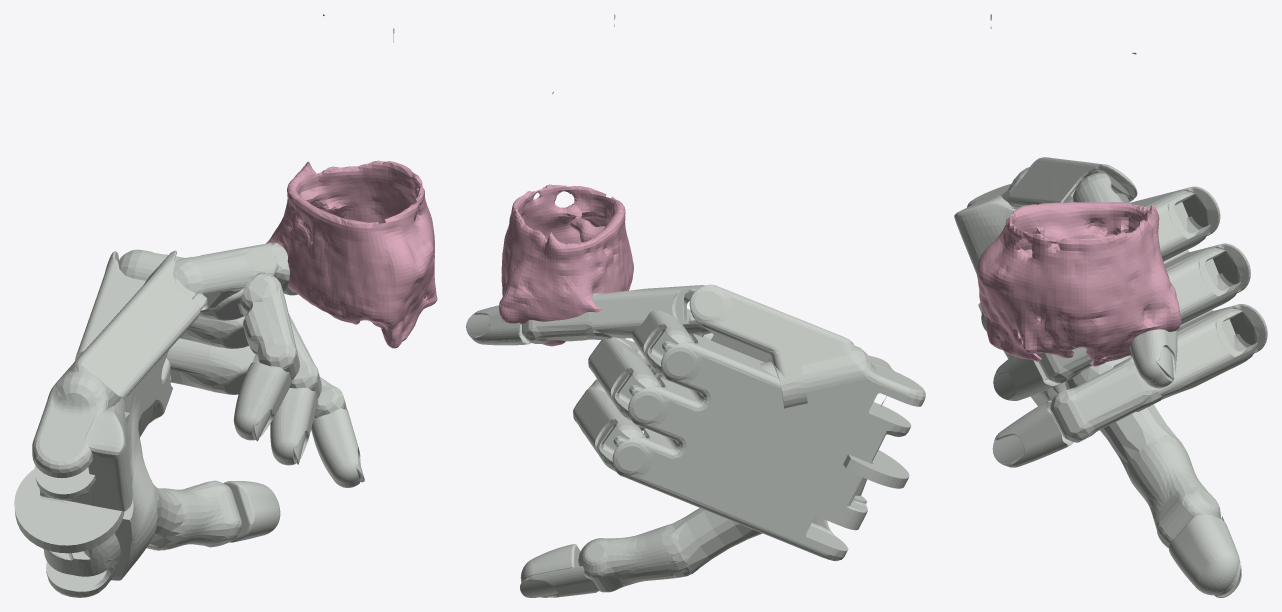
3 renders of one model, left to right at view 1: azimuth 30°, elevation 25°; view 2: azimuth 150°, elevation 25°; view 3: azimuth 270°, elevation 25°, orthographic. The views are drawn at different scales.
Parts seen in each view (by area): view 1: hand, world; view 2: hand, world; view 3: hand, world.
Boxes of the visible parts, box(x1,y1,x2,y2) form: hand: box(14, 242, 364, 597); world: box(266, 14, 437, 348); hand: box(466, 284, 925, 597); world: box(499, 14, 633, 346); hand: box(954, 157, 1267, 597); world: box(977, 14, 1181, 366).
Bounding box in the file's own units: 0.1788 × 0.2262 × 0.1084.
